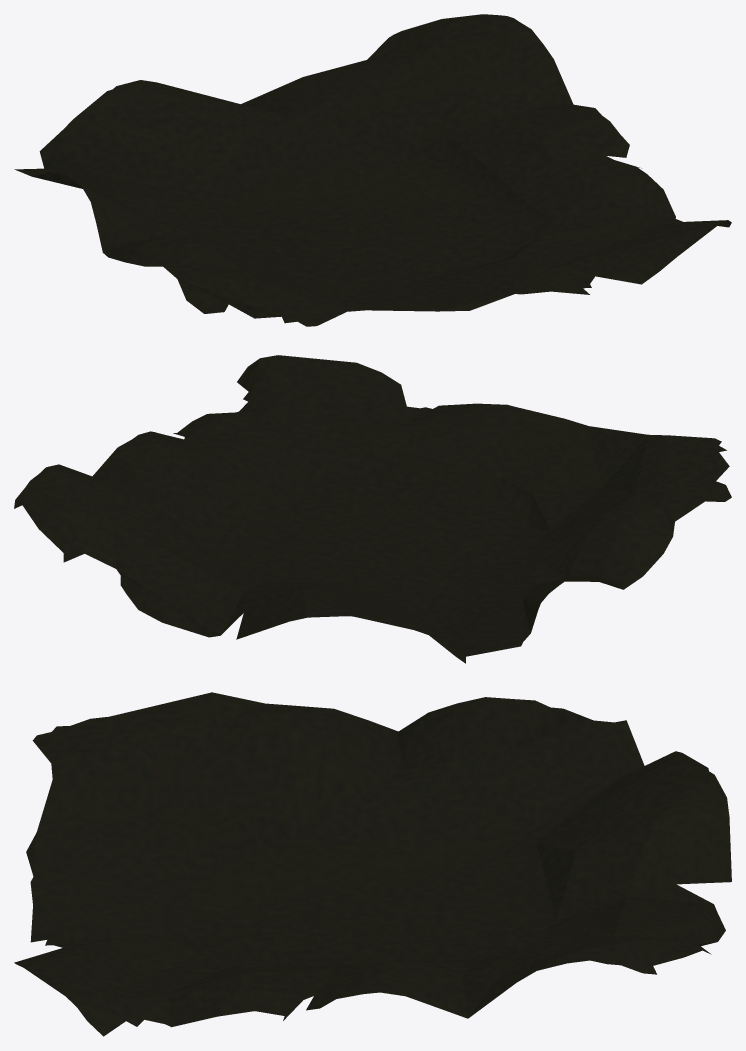
File: arena.glb
3 views of the same model, one above another, from view 1: azimuth 30°, elevation 25°; view 2: azimuth 150°, elevation 25°; view 3: azimuth 270°, elevation 25° (orthographic). The views are drawn at different scales.
Parts seen in each view (by area): view 1: Plane; view 2: Plane; view 3: Plane.
Boxes of the visible parts, x1,y1,x2,y2 form: Plane: (14, 14, 731, 326); Plane: (14, 355, 731, 663); Plane: (14, 692, 731, 1036).
Bounding box in the file's own units: 37.18 × 5.09 × 37.54.
1 material, 1 textured.
